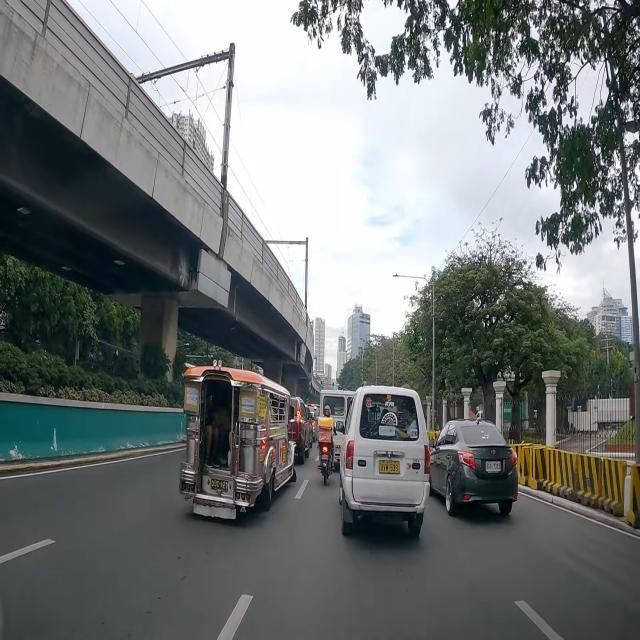car: (336, 381, 430, 543), (429, 420, 519, 520), (288, 394, 312, 466)
jeepney: (180, 358, 298, 521)
motorcycle: (318, 404, 338, 486)
